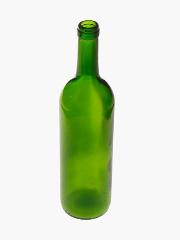glass: (60, 18, 112, 220)
